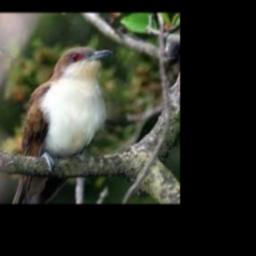Cuckoo: (12, 47, 113, 203)
